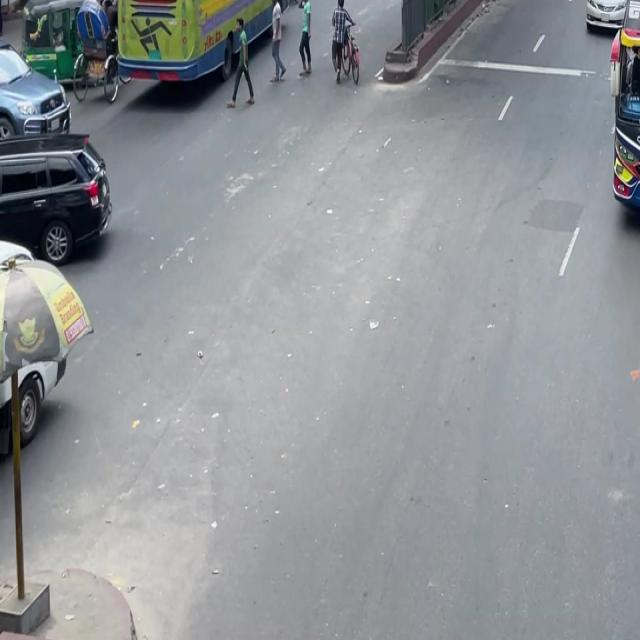bicycle: (340, 17, 364, 91)
bus: (115, 0, 295, 89), (608, 0, 640, 228)
car: (0, 22, 114, 290), (0, 210, 76, 592), (583, 0, 633, 42)
rickshaw: (18, 0, 114, 105)
